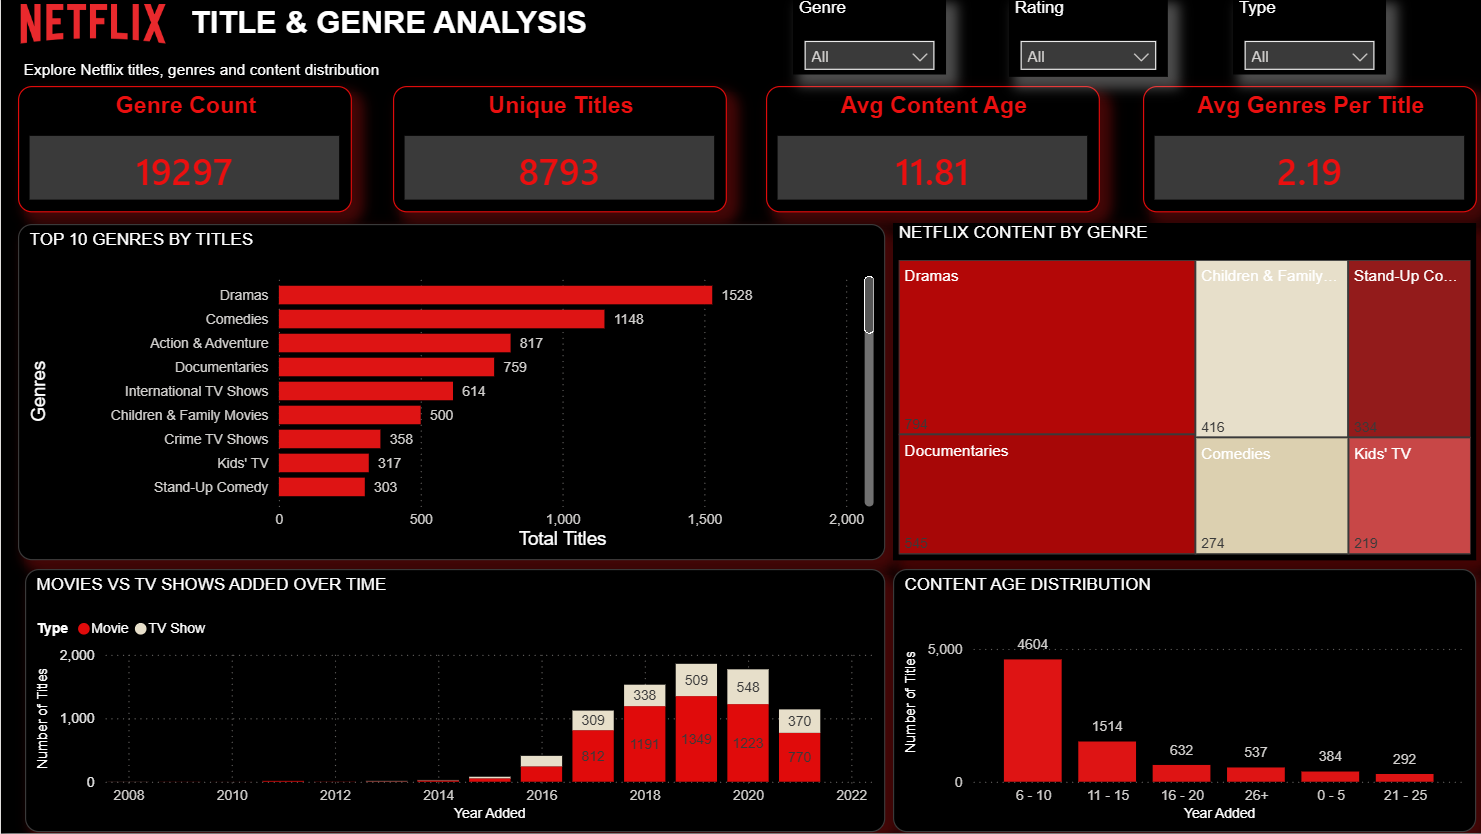

The dashboard page shown, as its layout file describes it:
{"tool":"powerbi","page":{"name":"Title & Genre Analysis","canvas":[1280,720],"ordinal":2},"visuals":[{"type":"image","box":[0,5.5,159,33.8],"z":0},{"type":"textbox","box":[14.6,49.3,402,26.5],"z":1000},{"type":"cardVisual","title":"Genre Count","fields":{"Data":["Sum(Fact_Netflix.Genre Count)"]},"box":[14.6,75.8,287.8,108.7],"z":2000},{"type":"cardVisual","title":"Avg Content Age","fields":{"Data":["Fact_Netflix.Average Content Age"]},"box":[659.6,75.8,287.8,108.7],"z":3000},{"type":"cardVisual","title":"Avg Genres Per Title","fields":{"Data":["Fact_Netflix.Average Genres per Title"]},"box":[984.9,75.8,287.8,108.7],"z":4000},{"type":"cardVisual","title":"Unique Titles","fields":{"Data":["Fact_Netflix.Total Titles"]},"box":[338,75.8,287.8,108.7],"z":5000},{"type":"textbox","box":[159,0.9,372.8,43.9],"z":6000},{"type":"barChart","title":"TOP 10 GENRES BY TITLES","fields":{"Category":["Bridge_Genre.Genre"],"Y":["Fact_Netflix.Total Titles"]},"box":[14.6,194.6,748.3,289.6],"z":7000},{"type":"treemap","title":"NETFLIX CONTENT BY GENRE","fields":{"Group":["Bridge_Genre.Genre"],"Values":["Fact_Netflix.Total Titles"]},"box":[769.3,193.7,503.4,290.5],"z":8000},{"type":"columnChart","title":"MOVIES VS TV SHOWS ADDED OVER TIME","fields":{"Y":["Fact_Netflix.Total Titles"],"Category":["Fact_Netflix.Year Added"],"Series":["Fact_Netflix.type"]},"box":[21,492.4,741.9,227.5],"z":9000},{"type":"clusteredColumnChart","title":"CONTENT AGE DISTRIBUTION","fields":{"Y":["Fact_Netflix.Total Titles"],"Category":["Fact_Netflix.Content Age Group"]},"box":[769.3,492.4,503.4,227.5],"z":10000},{"type":"slicer","title":"Rating","fields":{"Values":["Dim_Rating.rating"]},"box":[869.8,0,137,67.6],"z":11000},{"type":"slicer","title":"Type","fields":{"Values":["Fact_Netflix.type"]},"box":[1062.6,0,132.5,65.8],"z":12000},{"type":"slicer","title":"Genre","fields":{"Values":["Fact_Netflix.listed_in"]},"box":[683.4,0,132.5,65.8],"z":13000}]}

Visuals, with their boxes in screenshot pixels (x1, y1, x2, y2), scaled from the page's 1280x720 canvas onto the 1481x834 screenshot:
image: (0,6,184,46)
textbox: (17,57,482,88)
"Genre Count" cardVisual: (17,88,350,214)
"Avg Content Age" cardVisual: (763,88,1096,214)
"Avg Genres Per Title" cardVisual: (1140,88,1473,214)
"Unique Titles" cardVisual: (391,88,724,214)
textbox: (184,1,615,52)
"TOP 10 GENRES BY TITLES" barChart: (17,225,883,561)
"NETFLIX CONTENT BY GENRE" treemap: (890,224,1473,561)
"MOVIES VS TV SHOWS ADDED OVER TIME" columnChart: (24,570,883,833)
"CONTENT AGE DISTRIBUTION" clusteredColumnChart: (890,570,1473,833)
"Rating" slicer: (1006,0,1165,78)
"Type" slicer: (1229,0,1383,76)
"Genre" slicer: (791,0,944,76)
